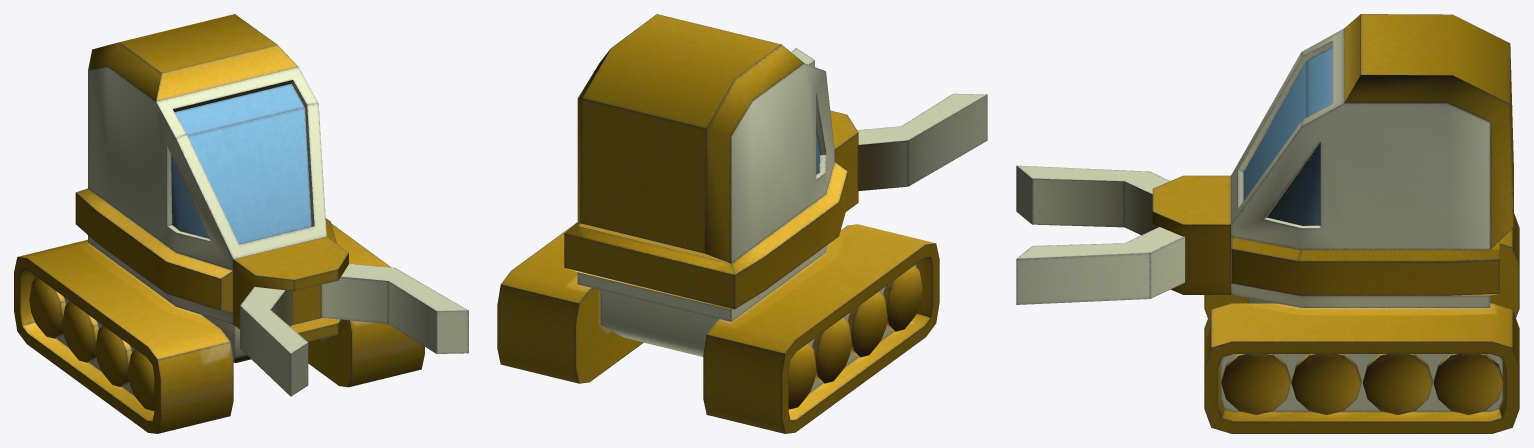
Rendered from miner.obj.
3 renders of one model, left to right at view 1: azimuth 30°, elevation 25°; view 2: azimuth 150°, elevation 25°; view 3: azimuth 270°, elevation 25°, orthographic. The views are drawn at different scales.
Parts seen in each view (by area): view 1: Box037; view 2: Box037; view 3: Box037.
Part boxes in pixels (bbox=[...]): Box037: bbox=[14, 14, 468, 433]; Box037: bbox=[497, 14, 987, 433]; Box037: bbox=[1016, 14, 1519, 433].
Bounding box in the file's own units: 19.28 × 20.76 × 29.57.
Materials: 1 (1 with a texture image).
